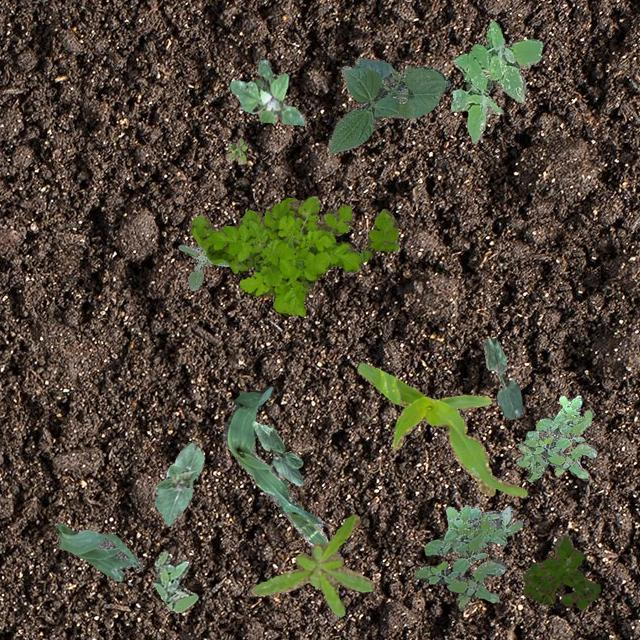crop: (356, 362, 526, 496), (222, 384, 328, 546), (326, 56, 449, 152), (54, 522, 142, 580), (152, 442, 204, 524), (482, 336, 522, 418), (252, 420, 302, 484)
weed: (190, 194, 396, 316), (250, 514, 374, 616), (414, 504, 522, 610), (449, 21, 542, 142), (516, 394, 596, 480), (522, 532, 600, 608), (228, 59, 304, 124), (150, 550, 198, 612), (178, 242, 228, 290), (224, 138, 246, 162)
